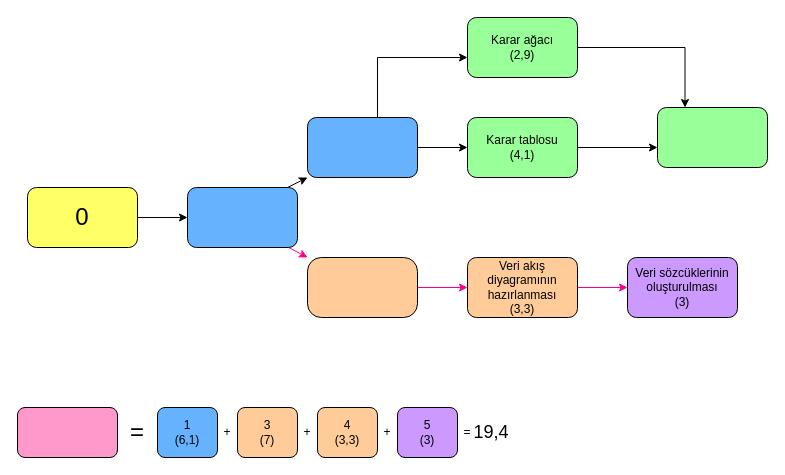
Some shapes in this 785 by 475 pixel diagram are drawn without their labels. Here are the shapes that lost their labels. From the top down, the centre of each, then its label:
(x=362, y=147): Hedef kitlesini belirleme (3,1)
(x=712, y=137): Alternatif kararları seçme (2,01)
(x=242, y=217): Piyasayı analiz etme (6,1)
(x=362, y=287): Gereksinim listesi analizi (7)
(x=67, y=432): Kritik yol
